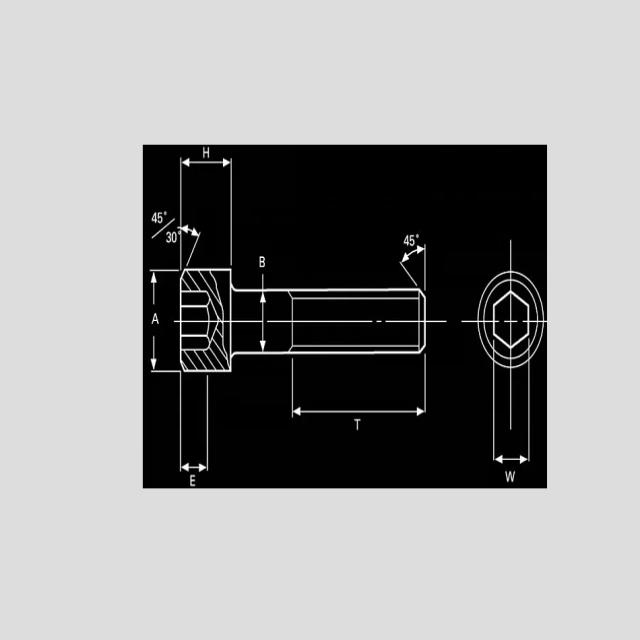marking_line: (293, 408, 424, 419), (183, 156, 230, 168), (259, 293, 267, 350), (183, 460, 205, 473), (496, 455, 528, 463), (149, 273, 157, 304), (151, 333, 157, 370)
numeric: (150, 212, 158, 225), (165, 230, 171, 243), (408, 234, 414, 247), (171, 231, 176, 246), (405, 232, 409, 248), (158, 211, 162, 224)
special_symbol: (162, 210, 167, 217), (177, 230, 181, 235), (416, 234, 419, 240)
